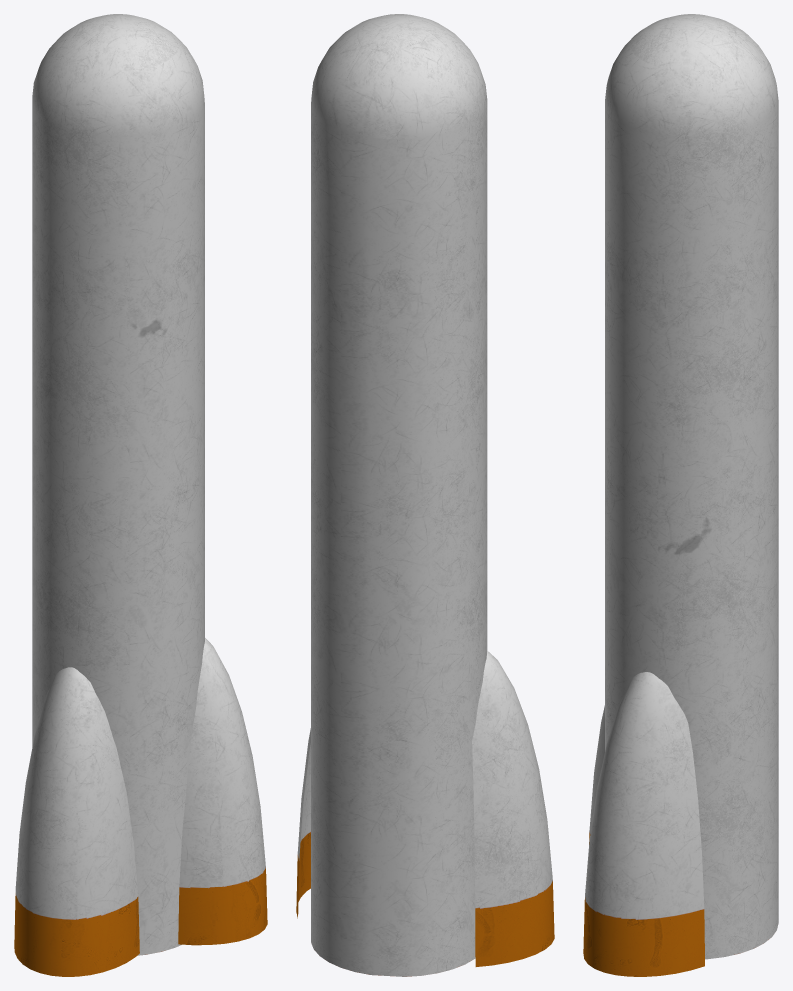
The model's file is roket.fbx.
3 renders of one model, left to right at view 1: azimuth 30°, elevation 25°; view 2: azimuth 150°, elevation 25°; view 3: azimuth 270°, elevation 25°, orthographic. The views are drawn at different scales.
Parts seen in each view (by area): view 1: Sphere; view 2: Sphere; view 3: Sphere.
Boxes of the visible parts, bbox=[...] form: Sphere: bbox=[14, 14, 267, 976]; Sphere: bbox=[296, 14, 554, 976]; Sphere: bbox=[583, 14, 778, 976].
Size of the model in its own units: 312 by 1145 by 225.
Materials: 1 (1 with a texture image).
